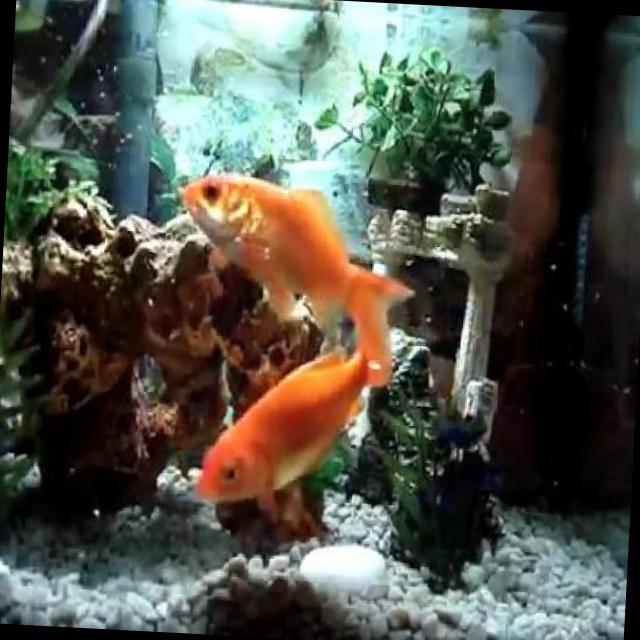GoldFish: (172, 160, 420, 378), (194, 341, 366, 523)
